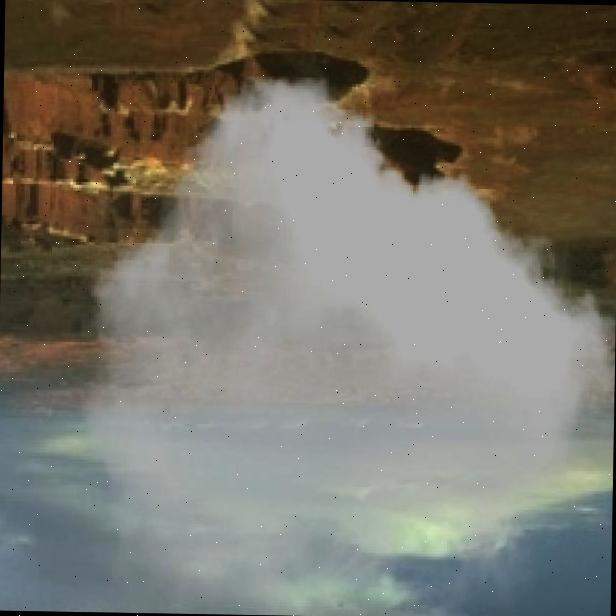smoke: (78, 73, 616, 616)
